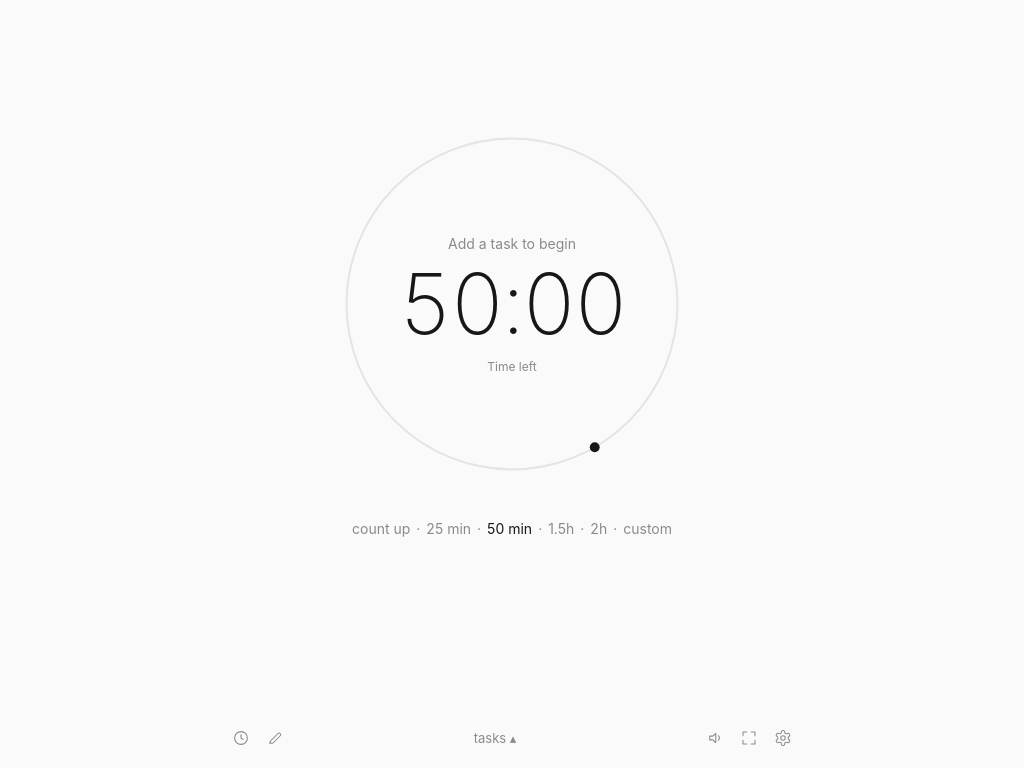
Focus screen › adding a task shows it with Play
Click the button "Add a task to begin" at {"x": 512, "y": 243}, box left=448, top=233, right=576, bottom=254
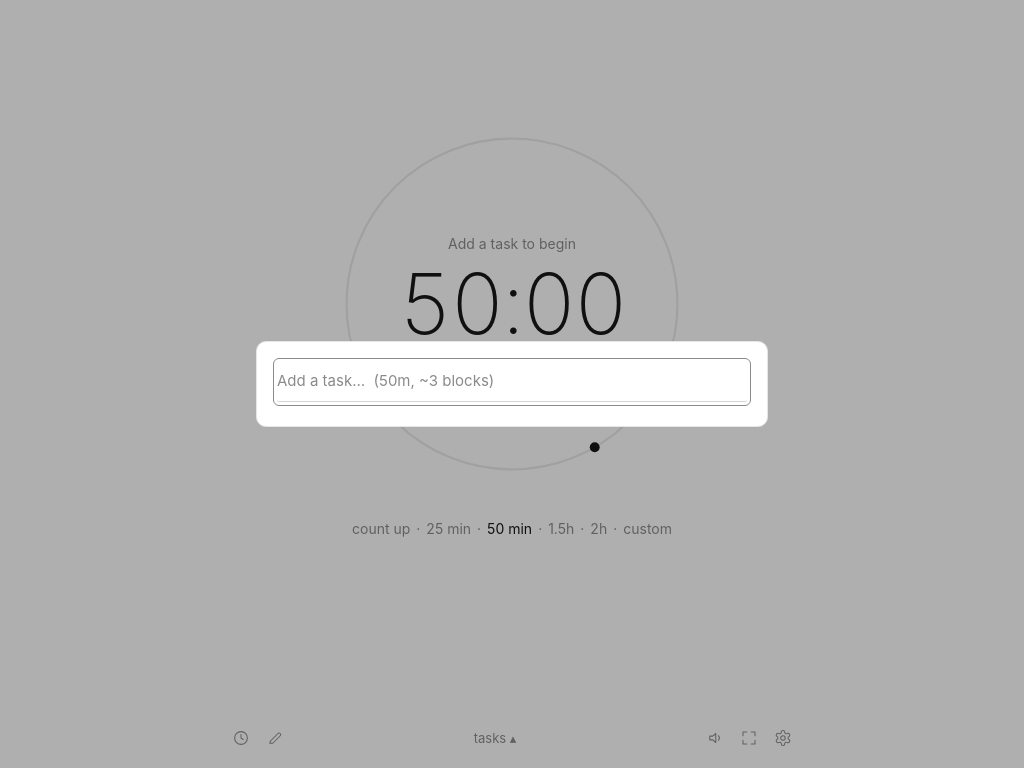
Type "Write" into the field labelled "Add a task" at {"x": 512, "y": 382}, box left=277, top=362, right=747, bottom=402
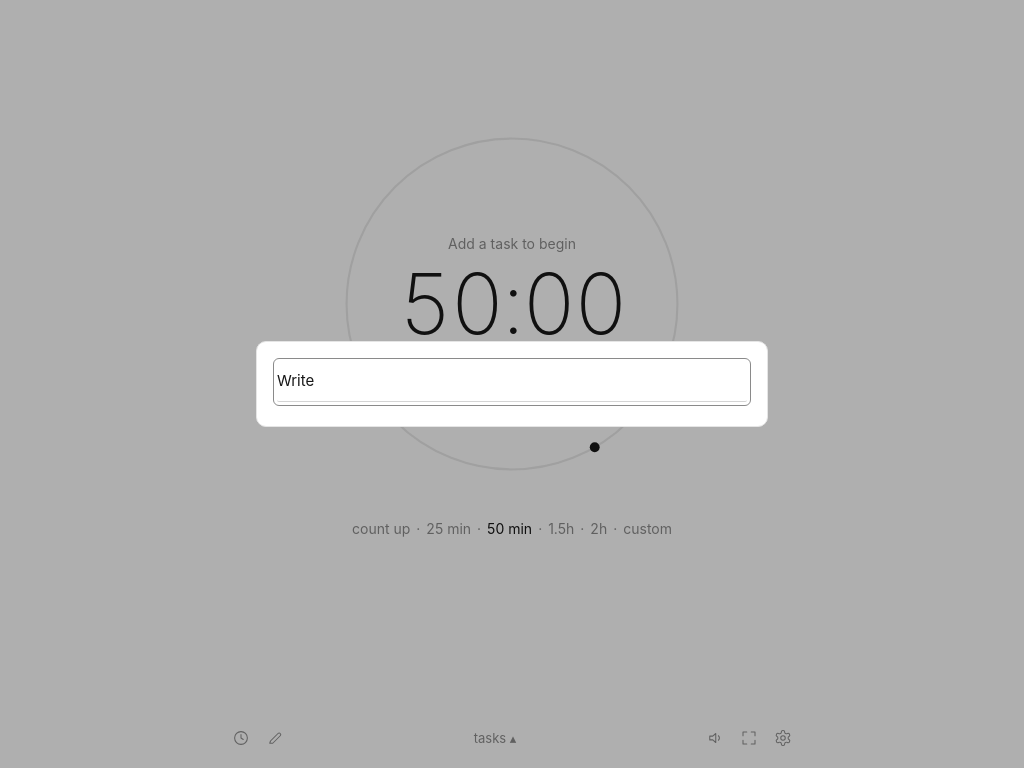
Submit the form named "Add a task", box left=277, top=362, right=747, bottom=402
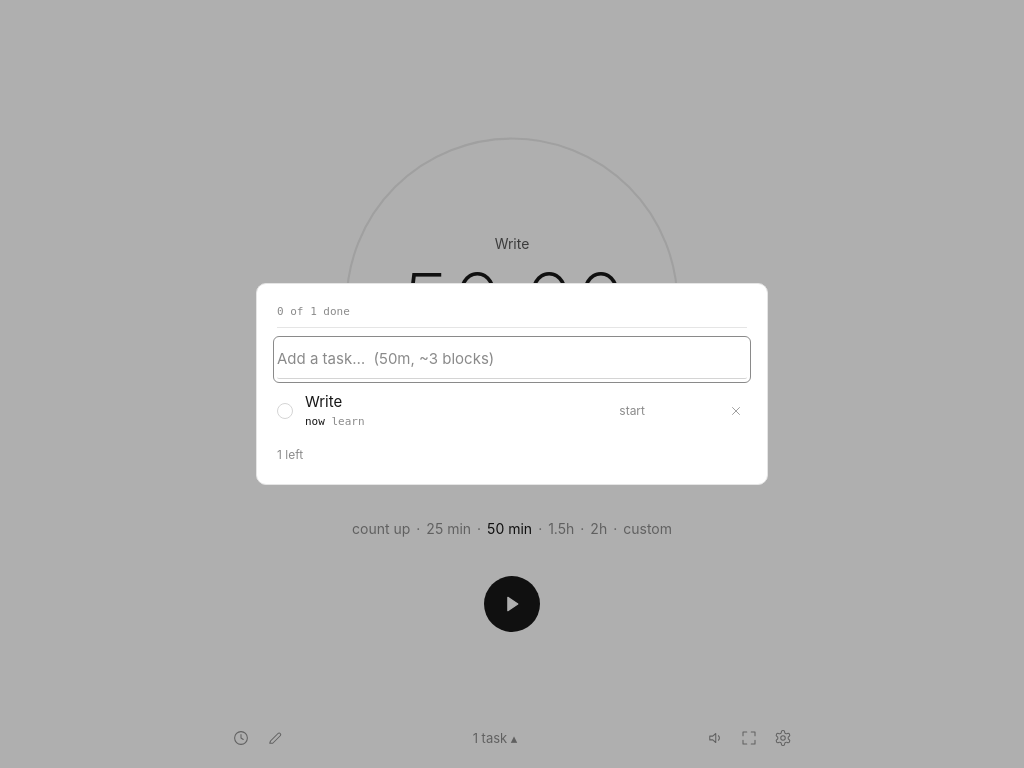
Expected: the button named "Play" is shown, left=484, top=576, right=540, bottom=632
